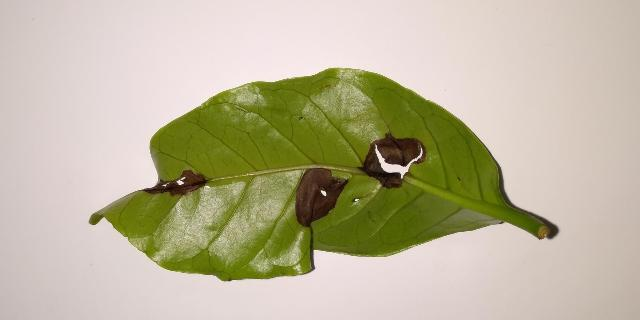rust: (358, 132, 426, 188), (295, 168, 348, 226), (142, 170, 208, 196)
